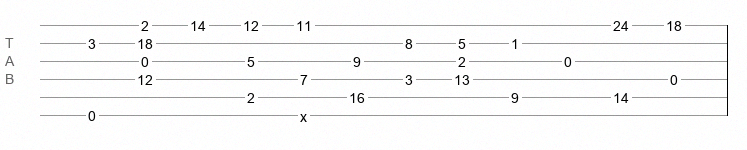0: (88, 108, 96, 118), (141, 54, 149, 64), (564, 54, 572, 64), (670, 72, 678, 82)
1: (511, 36, 519, 46)
11: (296, 18, 312, 28)
12: (137, 72, 153, 82), (243, 18, 259, 28)
13: (454, 72, 470, 82)
14: (190, 18, 206, 28), (613, 90, 629, 100)
16: (349, 90, 365, 100)
18: (137, 36, 153, 46), (666, 18, 682, 28)
2: (141, 18, 149, 28), (247, 90, 255, 100), (458, 54, 466, 64)
24: (613, 18, 629, 28)
3: (88, 36, 96, 46), (405, 72, 413, 82)
5: (247, 54, 255, 64), (458, 36, 466, 46)
7: (300, 72, 308, 82)
8: (405, 36, 413, 46)
9: (353, 54, 361, 64), (511, 90, 519, 100)
x: (300, 109, 307, 117)
